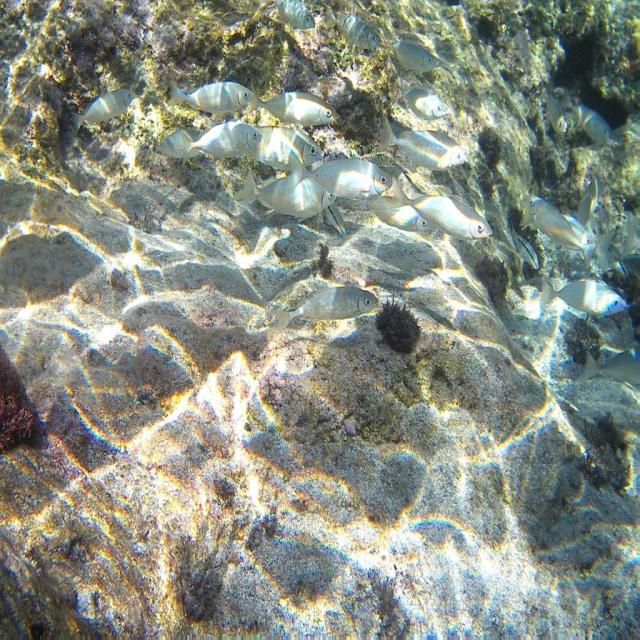Sokar Baligi: (264, 277, 383, 339), (534, 263, 633, 334), (170, 62, 254, 119), (178, 116, 270, 168)
